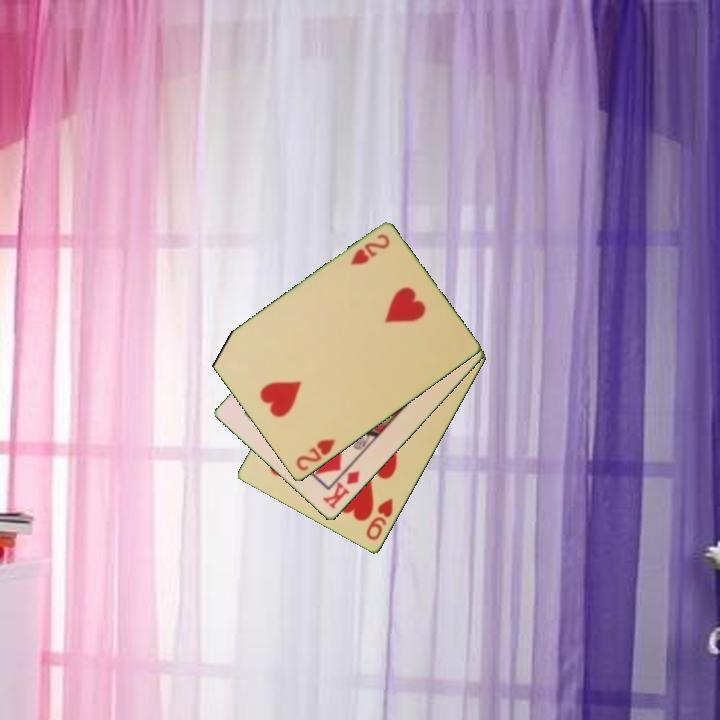2h: (292, 436, 338, 474), (347, 231, 393, 269)
9h: (363, 495, 396, 544)
Kd: (319, 467, 363, 513)
